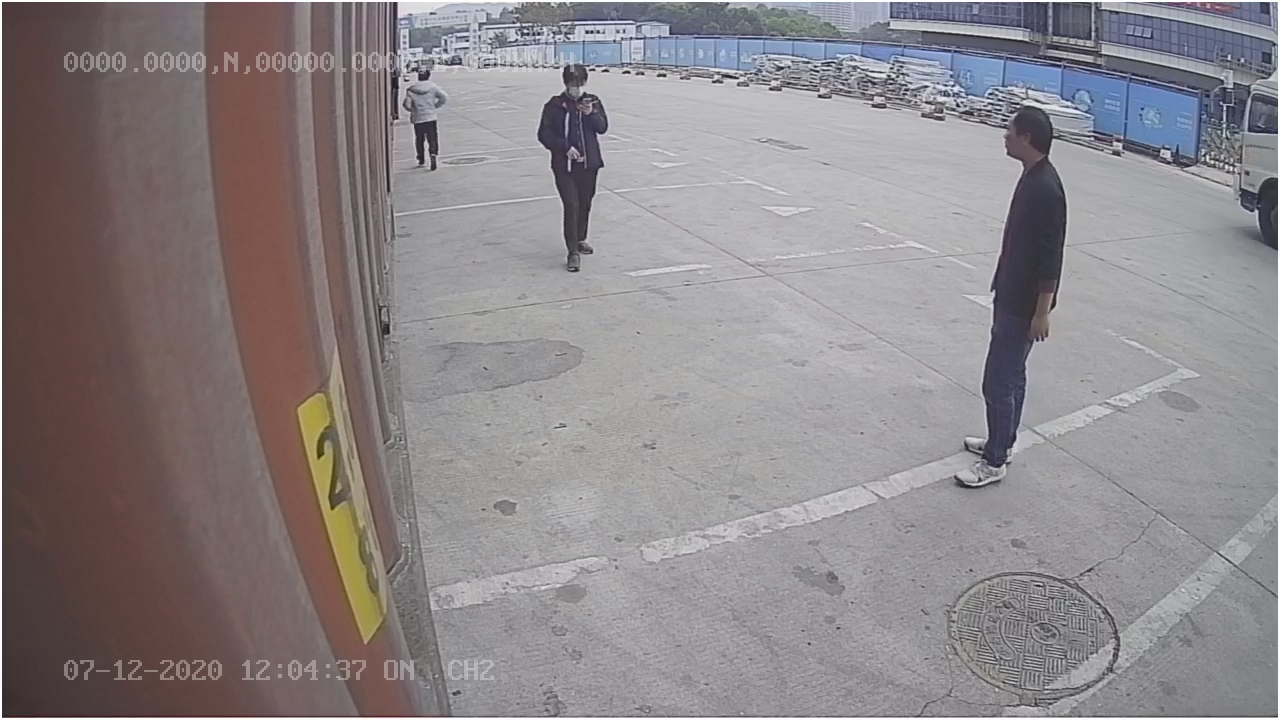person: (953, 104, 1070, 490)
